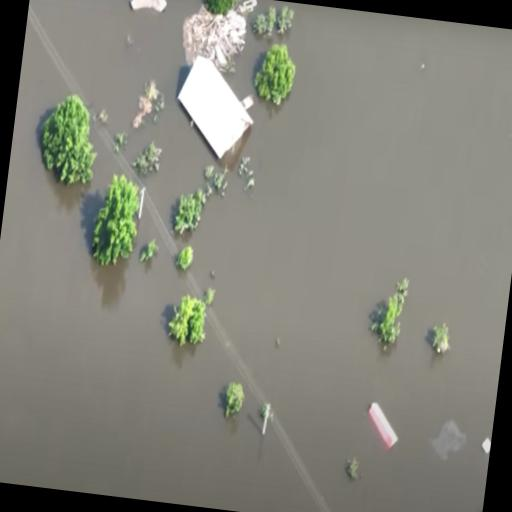flood: (173, 0, 512, 512), (0, 19, 320, 512), (29, 0, 219, 228), (332, 412, 490, 512), (224, 32, 282, 99)
house: (162, 36, 265, 182), (360, 390, 410, 456), (124, 0, 171, 23), (454, 492, 484, 512)
